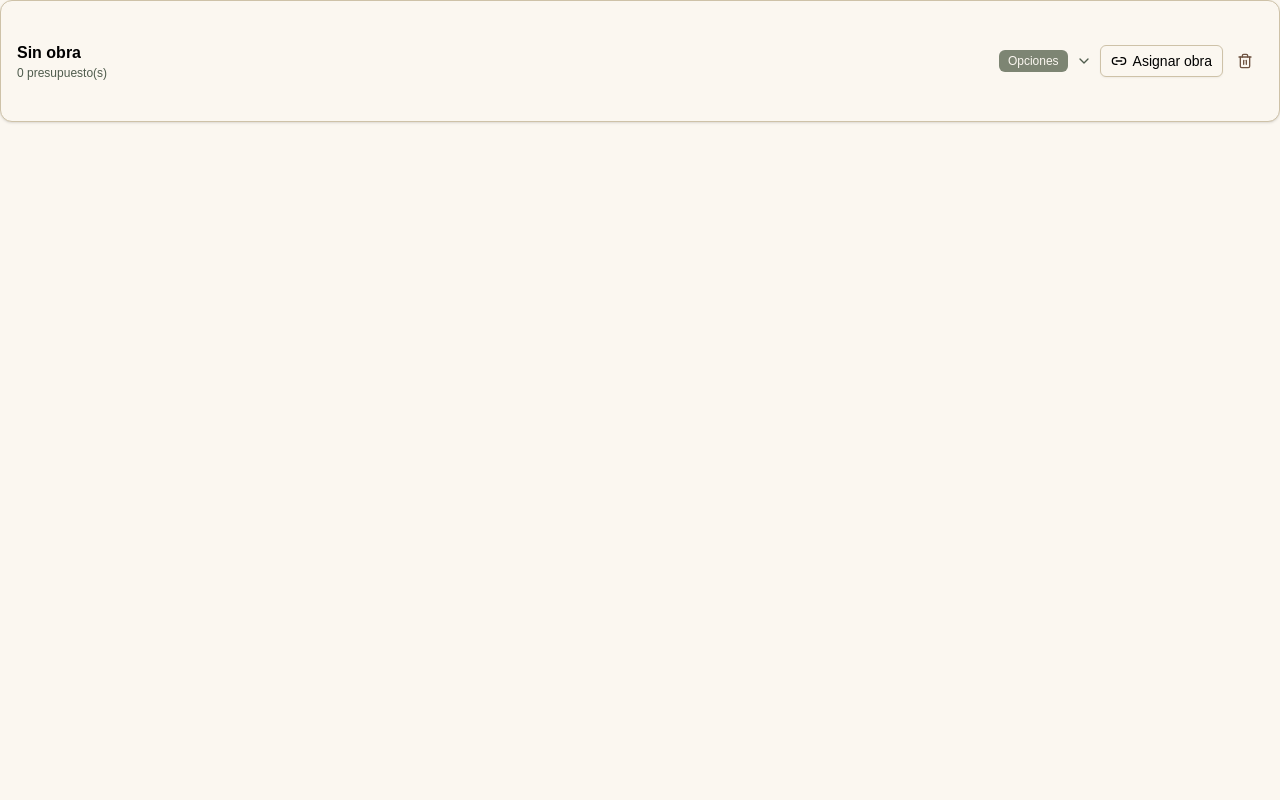
Test: FolderCard › opens assign work modal when "Asignar obra" is clicked
Click the button "Asignar obra".
click(1161, 61)  # box [1100,45,1223,77]
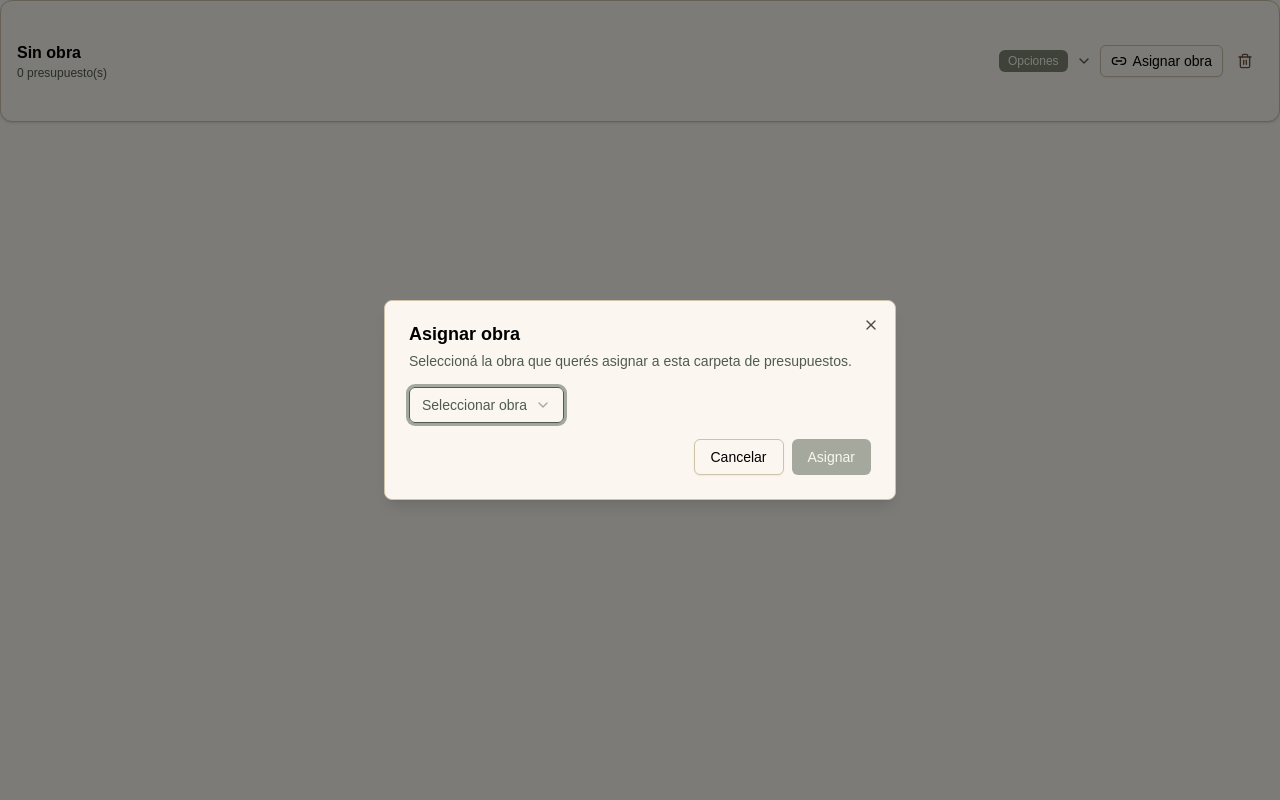
Check: the text "Seleccioná la obra que querés asignar a esta carpeta de presupuestos." is shown, box [409,351,871,371]
Check: the button "Asignar" is shown, box [792,439,871,475]
Check: the button "Cancelar" is shown, box [694,439,784,475]
